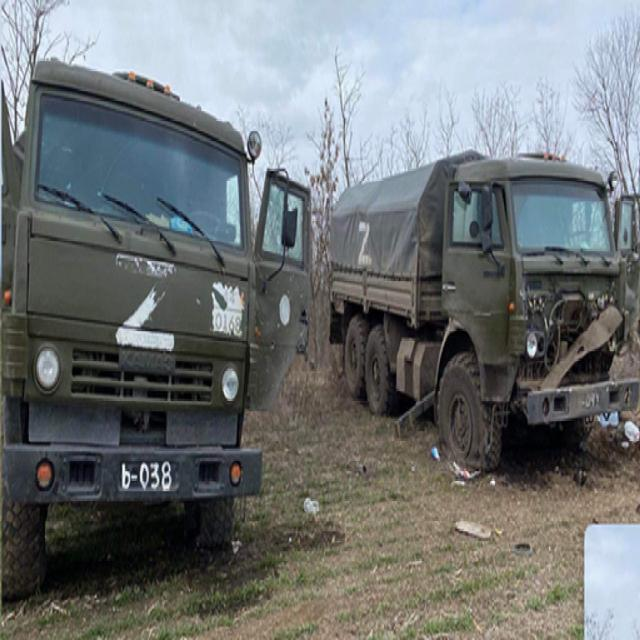TRUCK: (0, 46, 312, 606), (332, 142, 638, 474)
